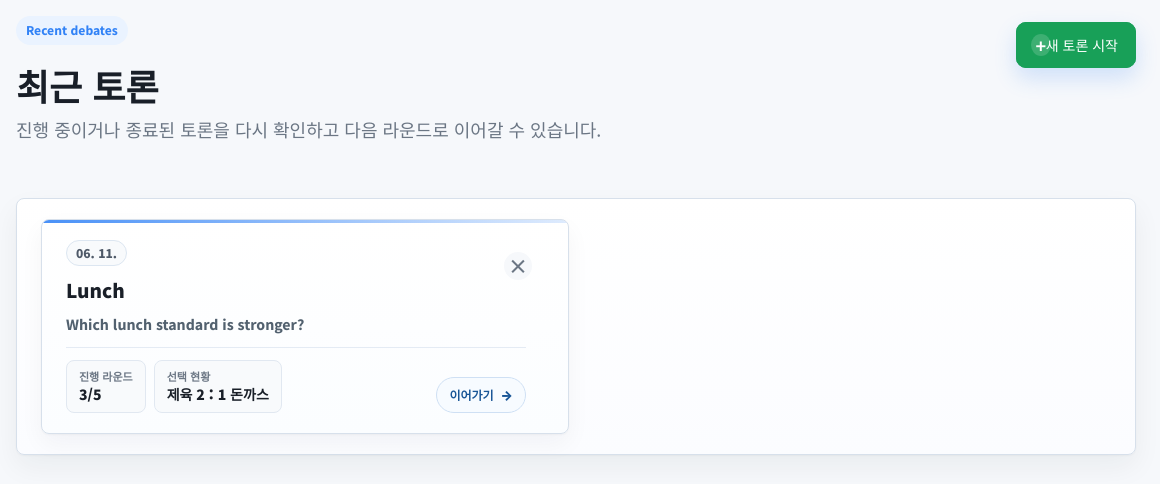
MyDebatesView › deletes a recent debate without opening the debate room
Click the button "×": x=518, y=266 x1=504 y1=252 x2=532 y2=280
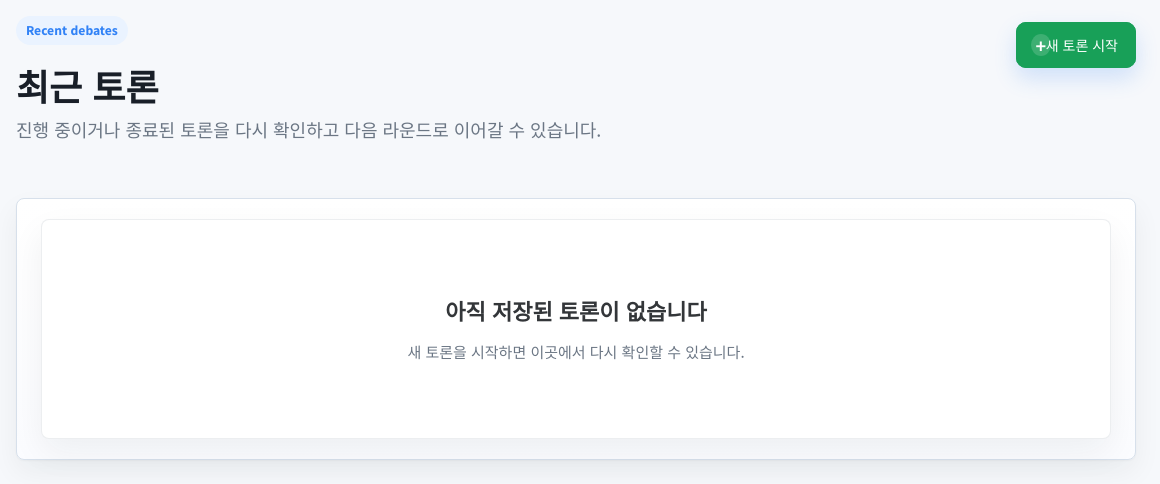
Expected: no buttons are shown
